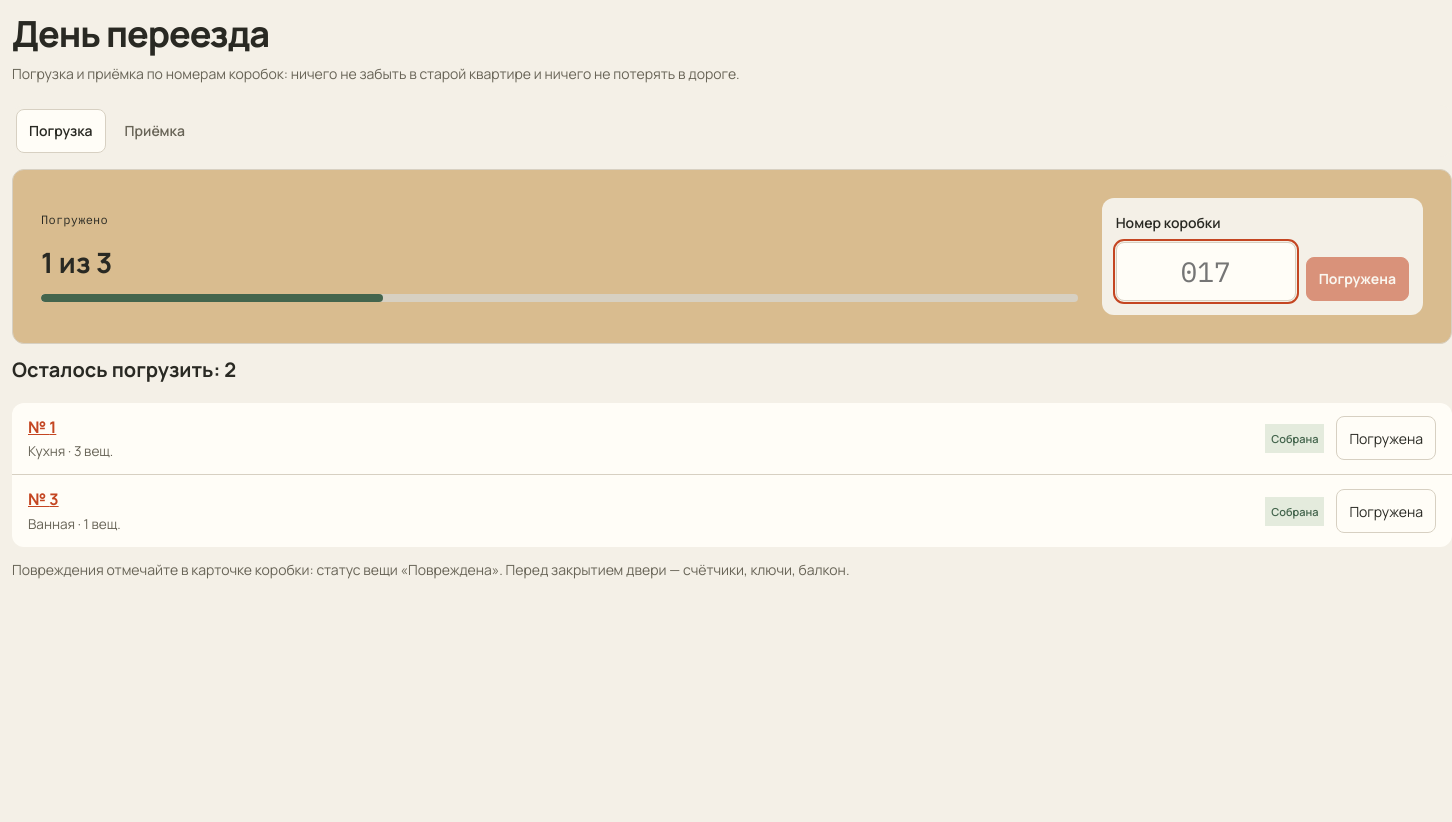
день переезда › приёмка считает то, что доехало
Check: the heading "1 из 3" is shown, box [41,242,112,280]
Step 1. Click the tab "Приёмка" → (155, 131), box [112,109,198,153]
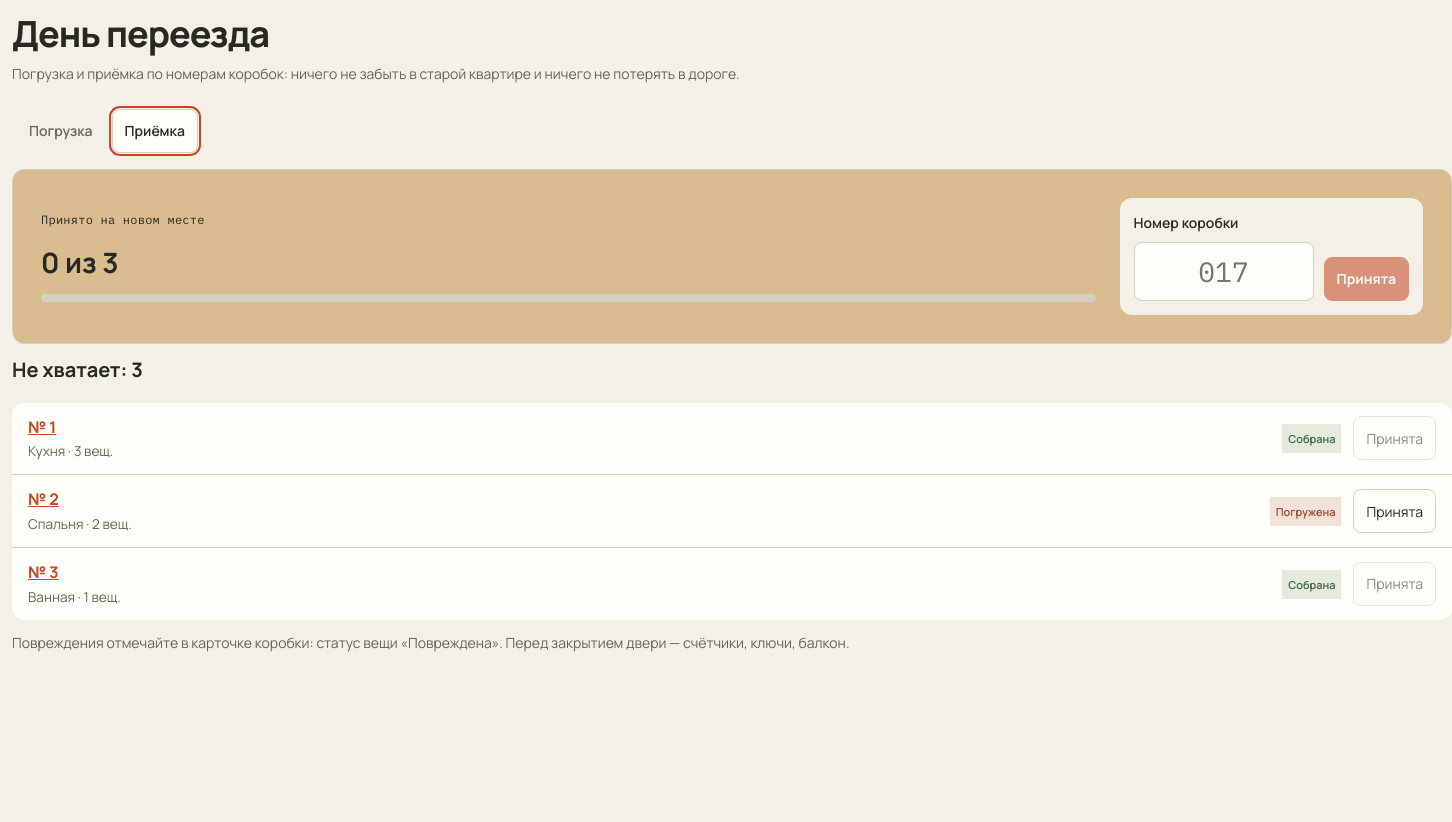
Check: the heading "0 из 3" is shown, box [41,242,118,280]
Check: the heading "Не хватает: 3" is shown, box [12,356,143,383]
